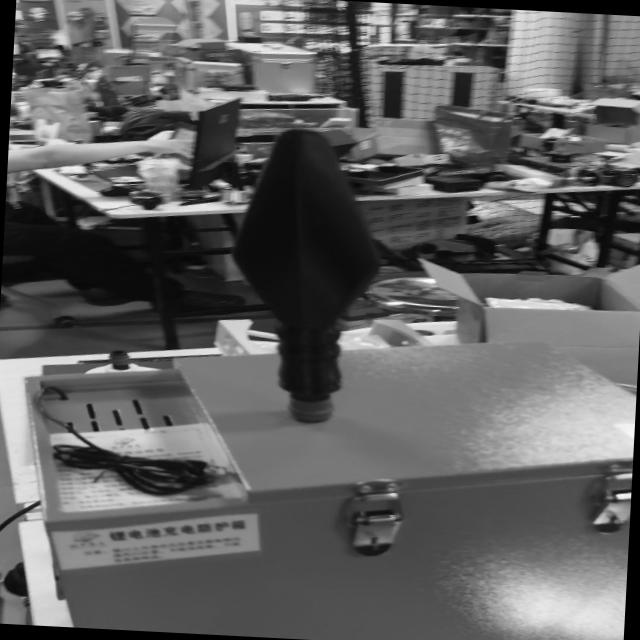base: (288, 397, 334, 424)
